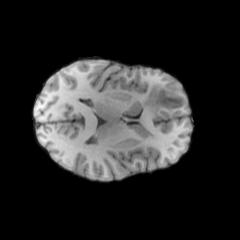glioma: (146, 84, 185, 115)
